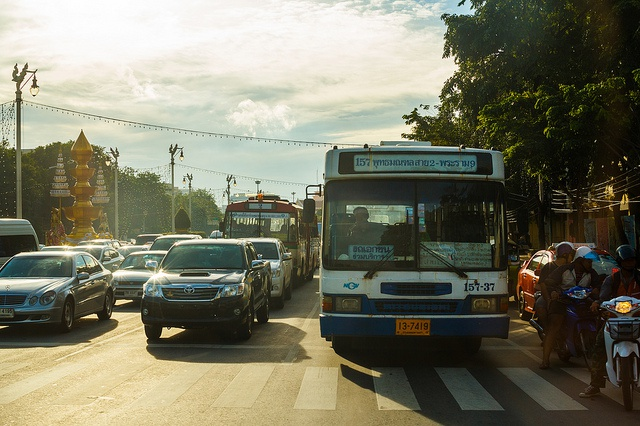non-vehicle: (532, 287, 594, 371), (602, 295, 638, 412)
